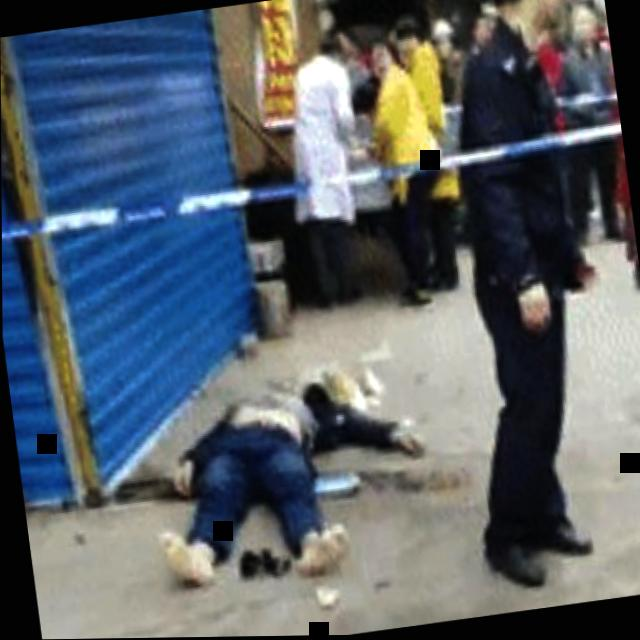Fall-Detected: (107, 314, 438, 611)
